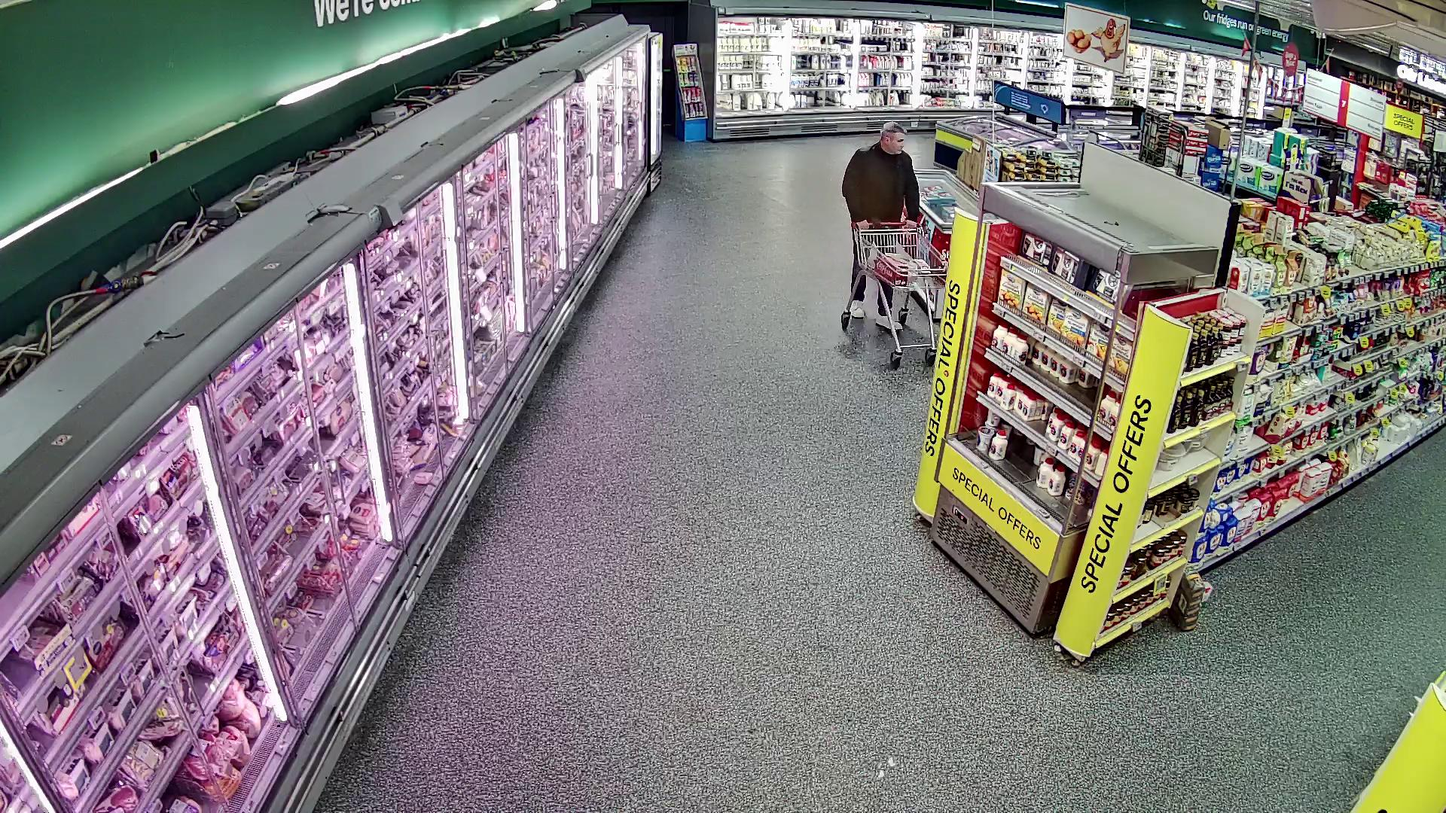filled-trolly: (842, 222, 948, 367)
person: (842, 121, 920, 331)
person-with-filled-basket-trolly: (842, 120, 946, 365)
